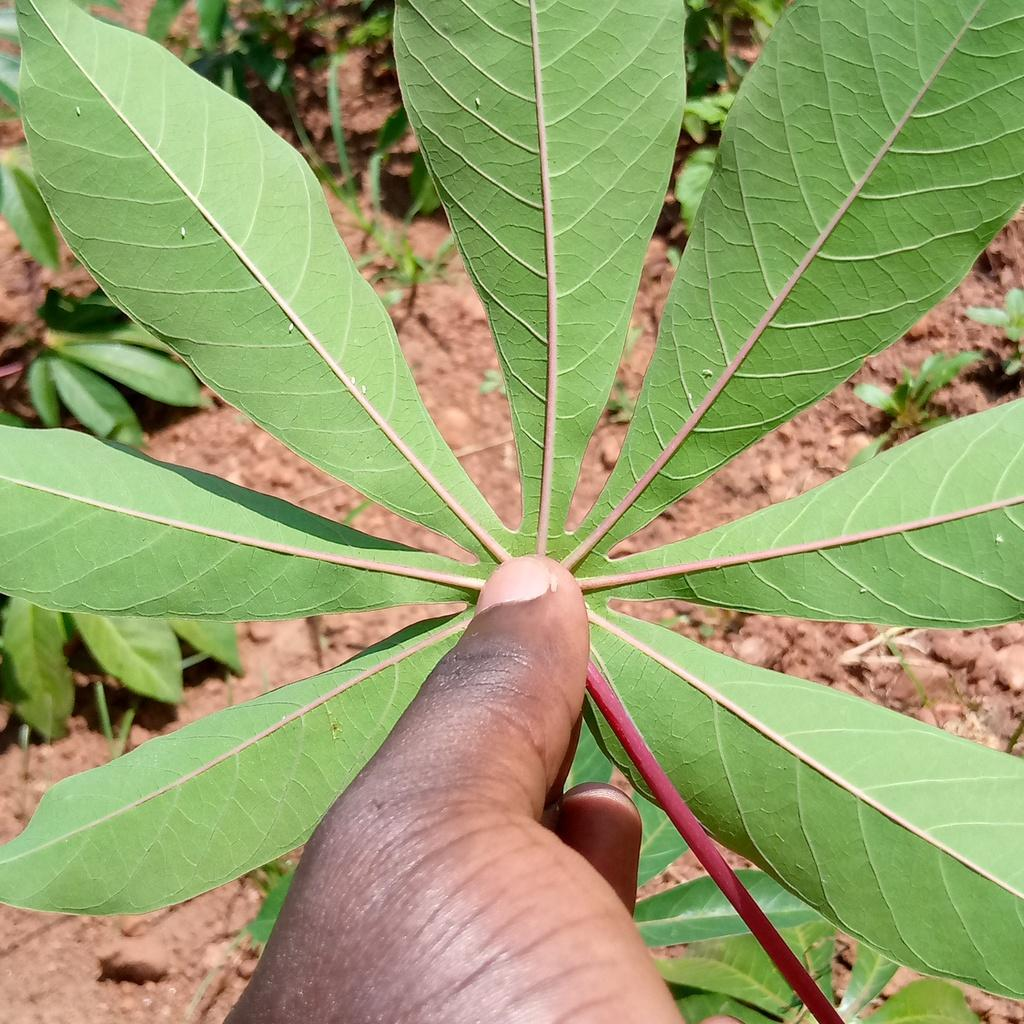adult: (701, 368, 713, 379), (474, 97, 481, 107), (687, 393, 693, 404), (360, 385, 367, 394), (995, 536, 1004, 543), (180, 227, 186, 237), (860, 587, 867, 594), (288, 324, 294, 332), (350, 376, 356, 384), (76, 107, 81, 115)
